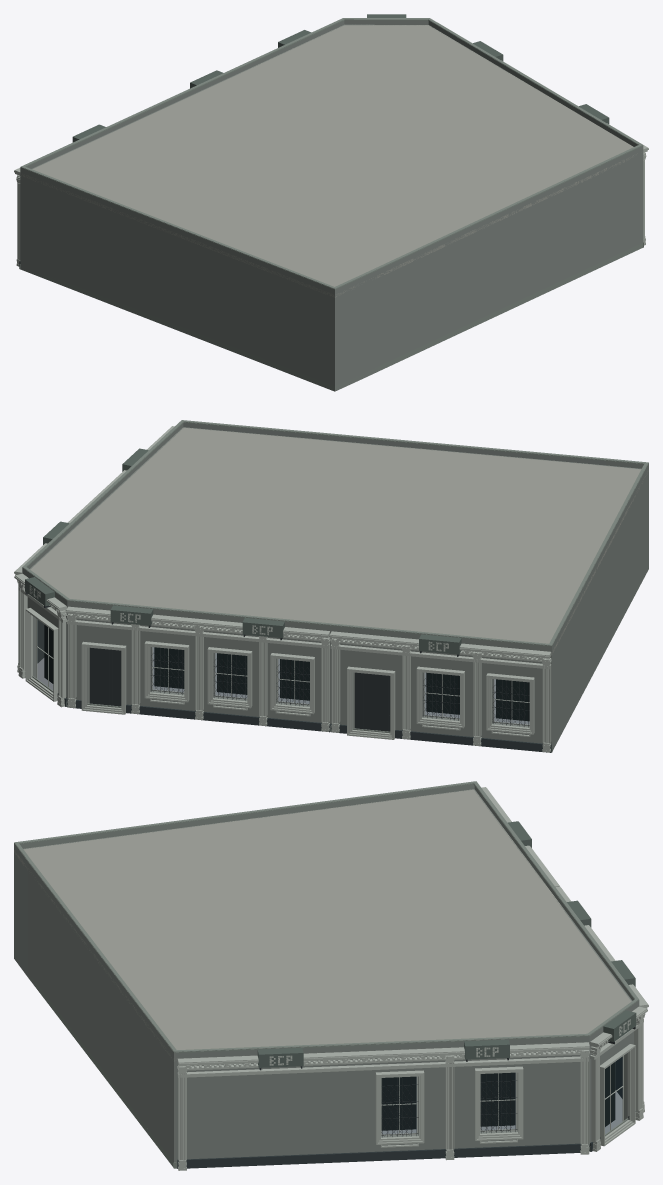
File: building.glb
3 renders of one model, top to bottom at view 1: azimuth 30°, elevation 25°; view 2: azimuth 150°, elevation 25°; view 3: azimuth 270°, elevation 25°, orthographic. The views are drawn at different scales.
Visible parts, largest first — view 1: roof/bank:0/roof_slab#0001, bank:0/edge0/z0/bank:0/edge0/z0/wall_0_0, bank:0/edge3/z0/bank:0/edge3/z0/wall_0_0, roof/bank:0/parapet#0001, roof/bank:0/parapet_cap#0002, bank:0/edge1/z0/bank:0/edge1/z0/wall_0_0, roof/bank:0/parapet_cap#0001, bank:0/edge3/z0/plinth#0001, bank:0/edge0/z0/plinth#0001, bank:0/edge2/z0/bank:0/edge2/z0/wall_0_0; view 2: roof/bank:0/roof_slab#0001, bank:0/edge0/z0/bank:0/edge0/z0/wall_0_0, roof/bank:0/parapet#0001, roof/bank:0/parapet_cap#0002, bank:0/edge7/z0/bank:0/edge7/z0/wall_0_0/clip12, bank:0/edge8/z0/bank:0/edge8/z0/wall_0_0/clip10, roof/bank:0/parapet_cap#0001, bank:0/edge8/z0/opening_u1.08_v0.05/door_leaf#0001, bank:0/edge7/z0/bank:0/edge7/z0/wall_0_0/clip2, bank:0/edge7/z0/opening_u1.00_v0.05/door_leaf#0001, bank:0/edge7/z0/proj_panel_17/facade_projection_panel#0001, bank:0/edge8/z0/opening_u8.01_v1.20/glazing#0001 (+46 smaller); view 3: roof/bank:0/roof_slab#0001, bank:0/edge5/z0/bank:0/edge5/z0/wall_0_0, bank:0/edge3/z0/bank:0/edge3/z0/wall_0_0, roof/bank:0/parapet#0001, roof/bank:0/parapet_cap#0002, bank:0/edge5/z0/proj_panel_11/facade_projection_panel#0001, bank:0/edge5/z0/proj_classical_cornice_07/classical_cornice_ (×3), roof/bank:0/parapet_cap#0001, bank:0/edge5/z0/proj_ledge_08/facade_projection_ledge#0001, bank:0/edge5/z0/opening_u9.12_v1.10/glazing#0001, bank:0/edge5/z0/opening_u13.55_v1.10/glazing#0001, bank:0/edge5/z0/opening_u9.12_v1.10/interior_backing#0001 (+17 smaller).
Boxes of the visible parts, x1,y1,x2,y2 form: roof/bank:0/roof_slab#0001: [20, 25, 637, 297]; bank:0/edge0/z0/bank:0/edge0/z0/wall_0_0: [20, 173, 334, 391]; bank:0/edge3/z0/bank:0/edge3/z0/wall_0_0: [377, 151, 643, 371]; roof/bank:0/parapet#0001: [20, 20, 643, 294]; roof/bank:0/parapet_cap#0002: [21, 18, 642, 288]; bank:0/edge1/z0/bank:0/edge1/z0/wall_0_0: [335, 282, 362, 391]; roof/bank:0/parapet_cap#0001: [20, 19, 643, 289]; bank:0/edge3/z0/plinth#0001: [377, 242, 643, 371]; bank:0/edge0/z0/plinth#0001: [23, 270, 334, 390]; bank:0/edge2/z0/bank:0/edge2/z0/wall_0_0: [363, 275, 377, 378]; roof/bank:0/roof_slab#0001: [30, 427, 648, 654]; bank:0/edge0/z0/bank:0/edge0/z0/wall_0_0: [552, 469, 648, 750]; roof/bank:0/parapet#0001: [22, 423, 648, 651]; roof/bank:0/parapet_cap#0002: [23, 420, 648, 645]; bank:0/edge7/z0/bank:0/edge7/z0/wall_0_0/clip12: [67, 606, 330, 662]; bank:0/edge8/z0/bank:0/edge8/z0/wall_0_0/clip10: [331, 631, 551, 683]; roof/bank:0/parapet_cap#0001: [22, 422, 648, 646]; bank:0/edge8/z0/opening_u1.08_v0.05/door_leaf#0001: [354, 672, 390, 731]; bank:0/edge7/z0/bank:0/edge7/z0/wall_0_0/clip2: [126, 690, 330, 725]; bank:0/edge7/z0/opening_u1.00_v0.05/door_leaf#0001: [89, 647, 121, 706]; bank:0/edge7/z0/proj_panel_17/facade_projection_panel#0001: [126, 704, 330, 732]; bank:0/edge8/z0/opening_u8.01_v1.20/glazing#0001: [494, 679, 529, 724]; roof/bank:0/roof_slab#0001: [14, 789, 637, 1061]; bank:0/edge5/z0/bank:0/edge5/z0/wall_0_0: [176, 1042, 589, 1162]; bank:0/edge3/z0/bank:0/edge3/z0/wall_0_0: [35, 878, 173, 1161]; roof/bank:0/parapet#0001: [14, 784, 639, 1058]; roof/bank:0/parapet_cap#0002: [14, 781, 638, 1052]; bank:0/edge5/z0/proj_panel_11/facade_projection_panel#0001: [177, 1143, 589, 1168]; bank:0/edge5/z0/proj_classical_cornice_07/classical_cornice_ (×3): [177, 1042, 589, 1069]; roof/bank:0/parapet_cap#0001: [14, 783, 639, 1053]; bank:0/edge5/z0/proj_ledge_08/facade_projection_ledge#0001: [177, 1056, 588, 1077]; bank:0/edge5/z0/opening_u9.12_v1.10/glazing#0001: [381, 1076, 416, 1134]; bank:0/edge5/z0/opening_u13.55_v1.10/glazing#0001: [480, 1072, 515, 1130]; bank:0/edge5/z0/opening_u9.12_v1.10/interior_backing#0001: [382, 1077, 415, 1130].
Bounding box in the file's own units: 29.1 × 5.72 × 28.27.
